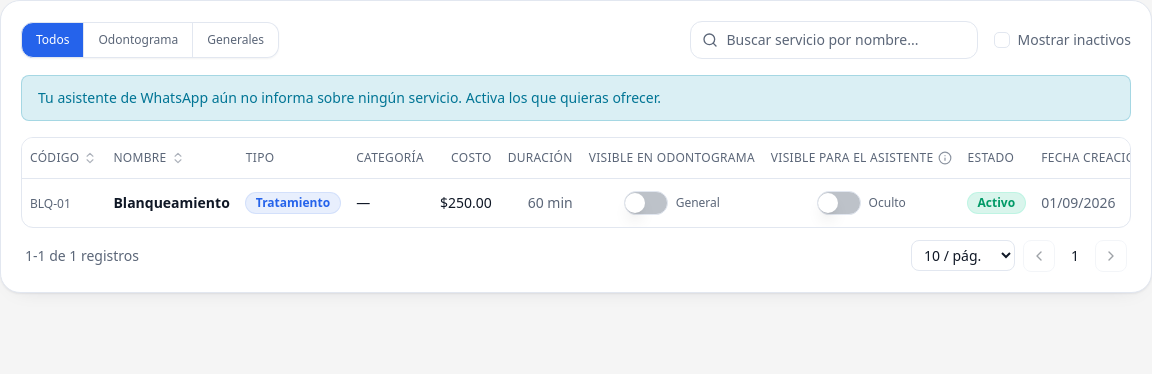
Scenario: columna «Visible para el asistente» › con un 403 la columna pasa a solo lectura
Expected: the text "Blanqueamiento" is shown, [114,192,230,212]
Step 1. Click the switch named "Mostrar \"Blanqueamiento\" al asistente" → point(839, 202), box [817,190,861,214]
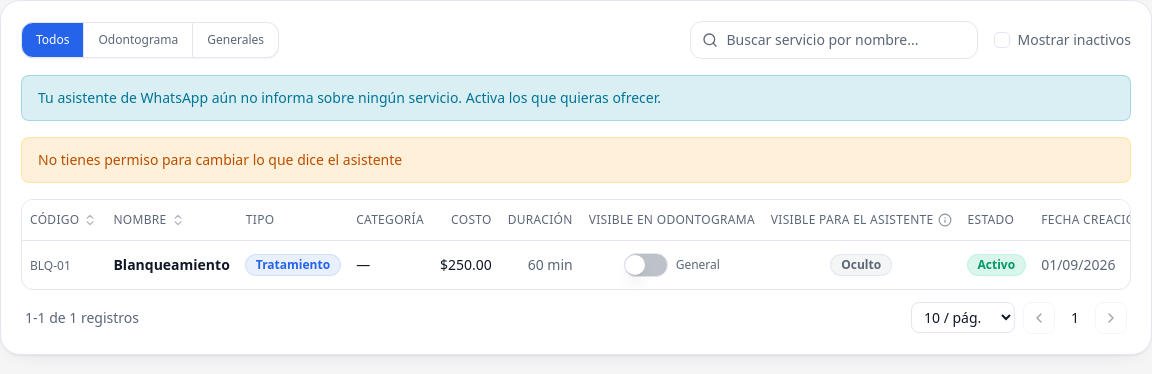
Result: the text "No tienes permiso para cambiar lo que dice el asistente" is shown at [38,150,402,169]
